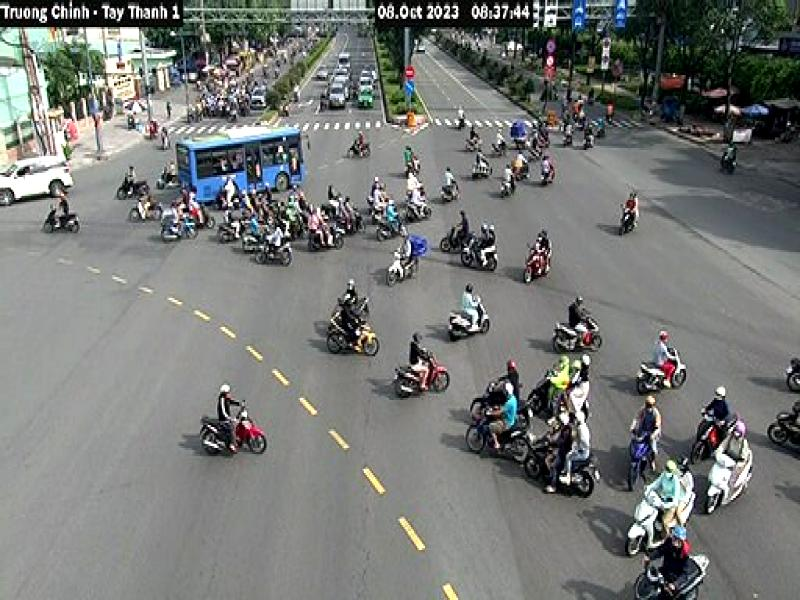bus: (176, 125, 305, 210)
car: (0, 155, 75, 205)
motorcycle: (526, 434, 600, 500), (628, 492, 698, 556), (633, 552, 711, 600), (704, 446, 754, 516), (198, 410, 268, 456), (465, 418, 532, 462), (637, 347, 686, 395), (395, 359, 451, 399), (327, 319, 381, 360), (552, 315, 606, 353), (450, 298, 491, 338), (628, 429, 651, 491)
